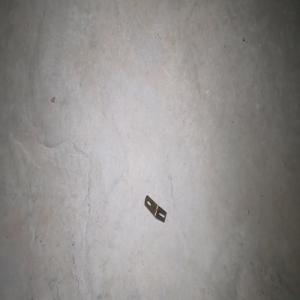MetalPart: (144, 194, 167, 223)
